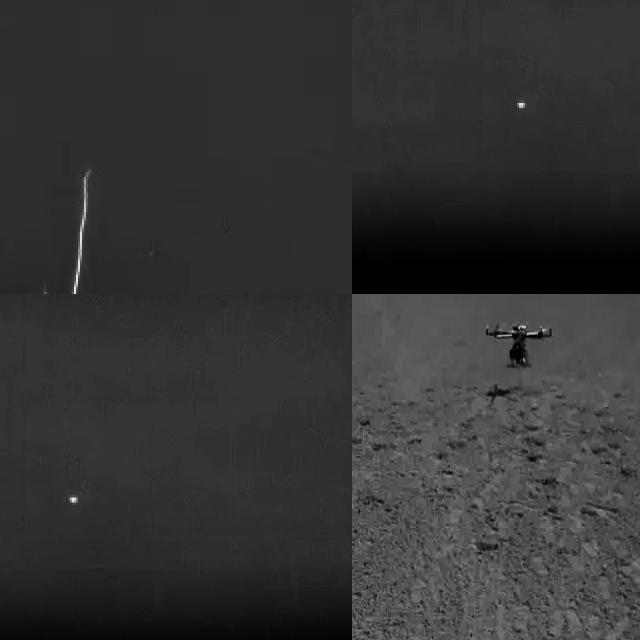0: (142, 243, 166, 273)
1: (66, 490, 90, 515), (514, 96, 538, 120)
drone: (484, 321, 554, 369)
